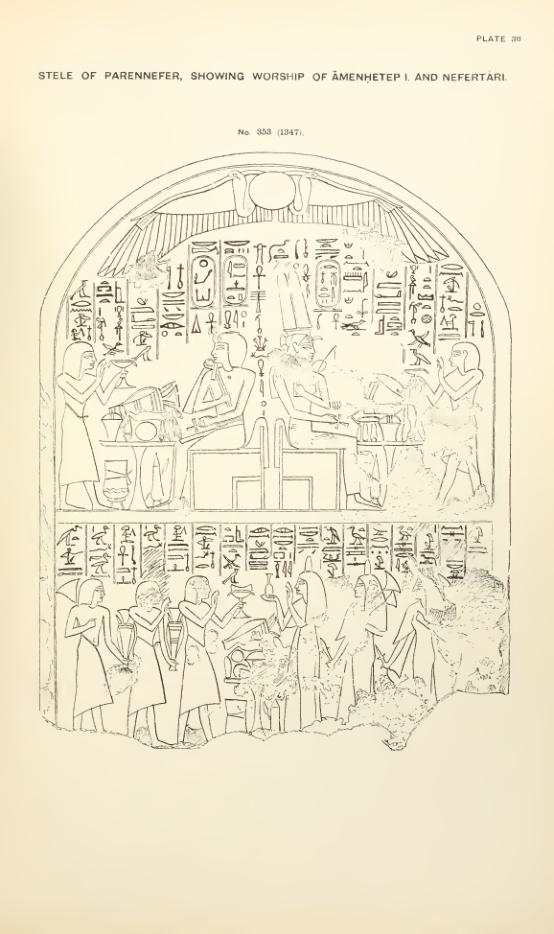circle: (220, 253, 251, 310), (312, 259, 342, 315), (190, 254, 217, 313)
